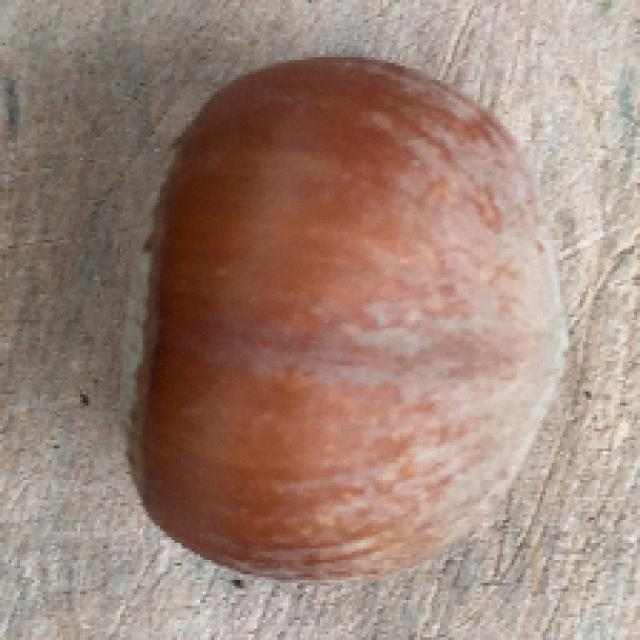qualityHazelnut: (108, 45, 579, 592)
